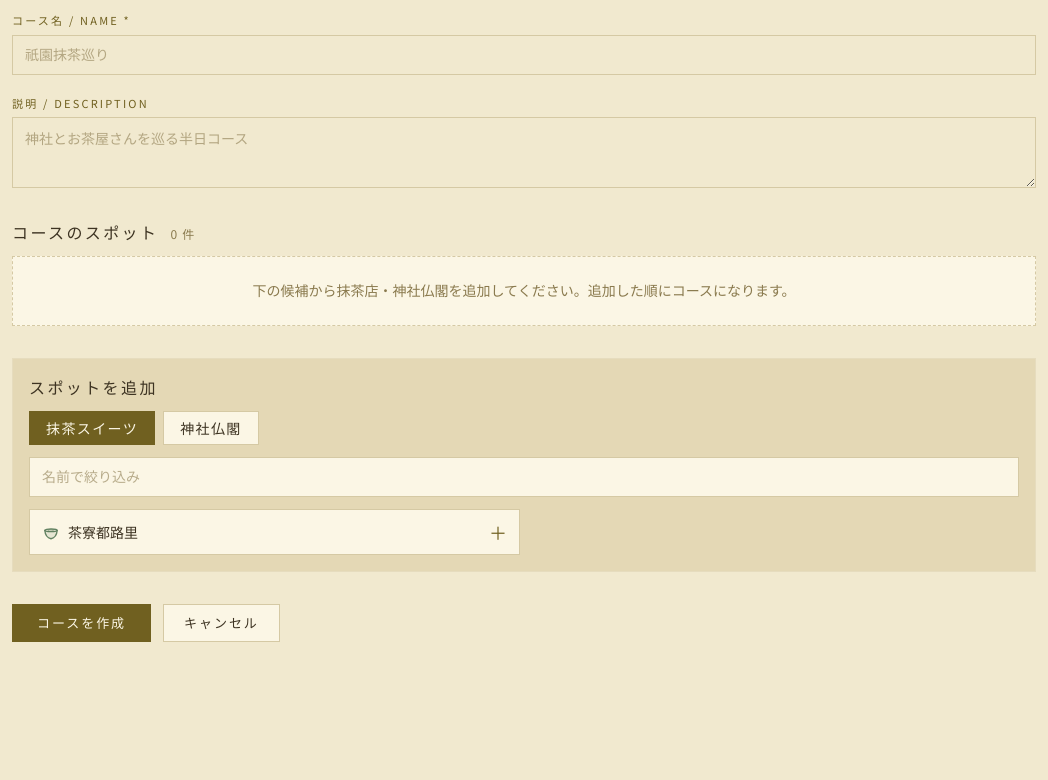
Scenario: RouteBuilder（作成） › 422 ではサーバのメッセージを表示する
This screenshot has width=1048, height=780.
Type "テストコース" into the field labelled "コース名 / NAME *" at (524, 54), box left=12, top=34, right=1036, bottom=74
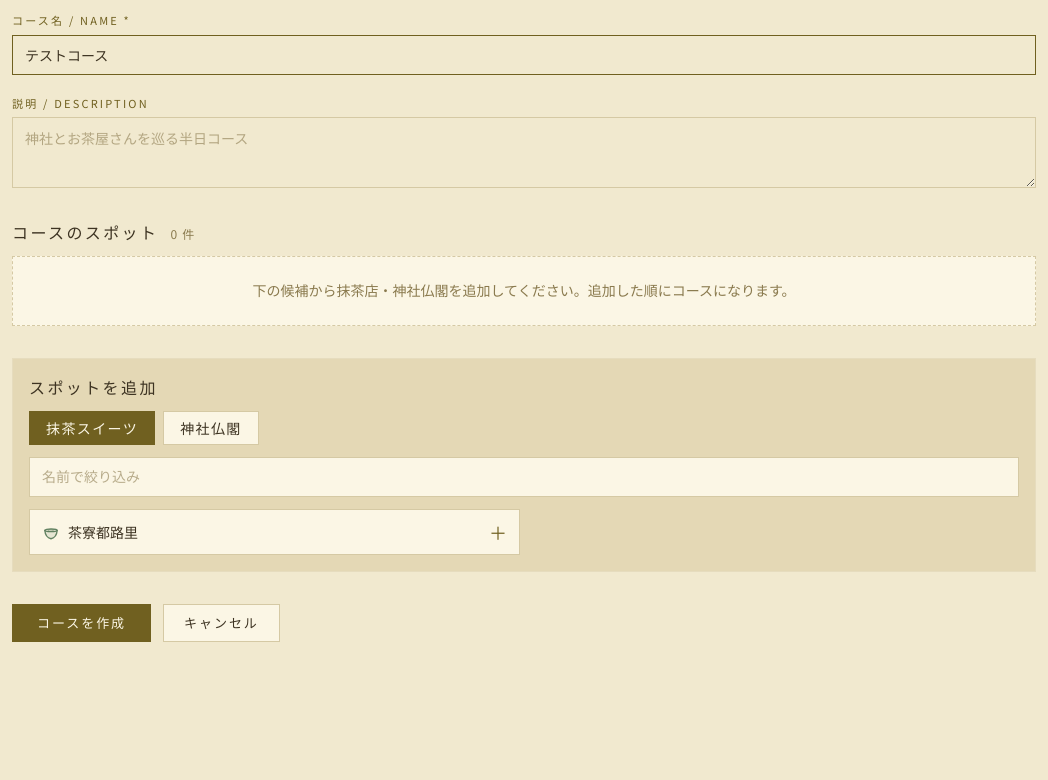
Click the button "茶寮都路里 ＋" at (103, 532), box left=29, top=509, right=520, bottom=555
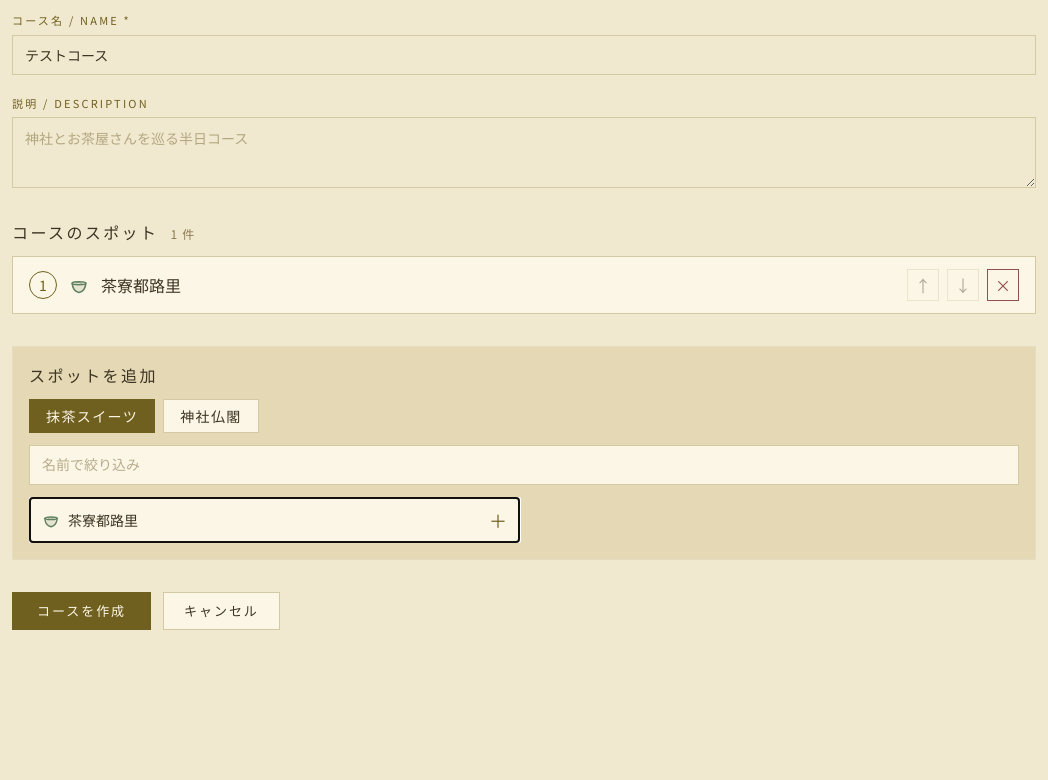
Click the button "コースを作成" at (82, 611), box left=12, top=592, right=151, bottom=630
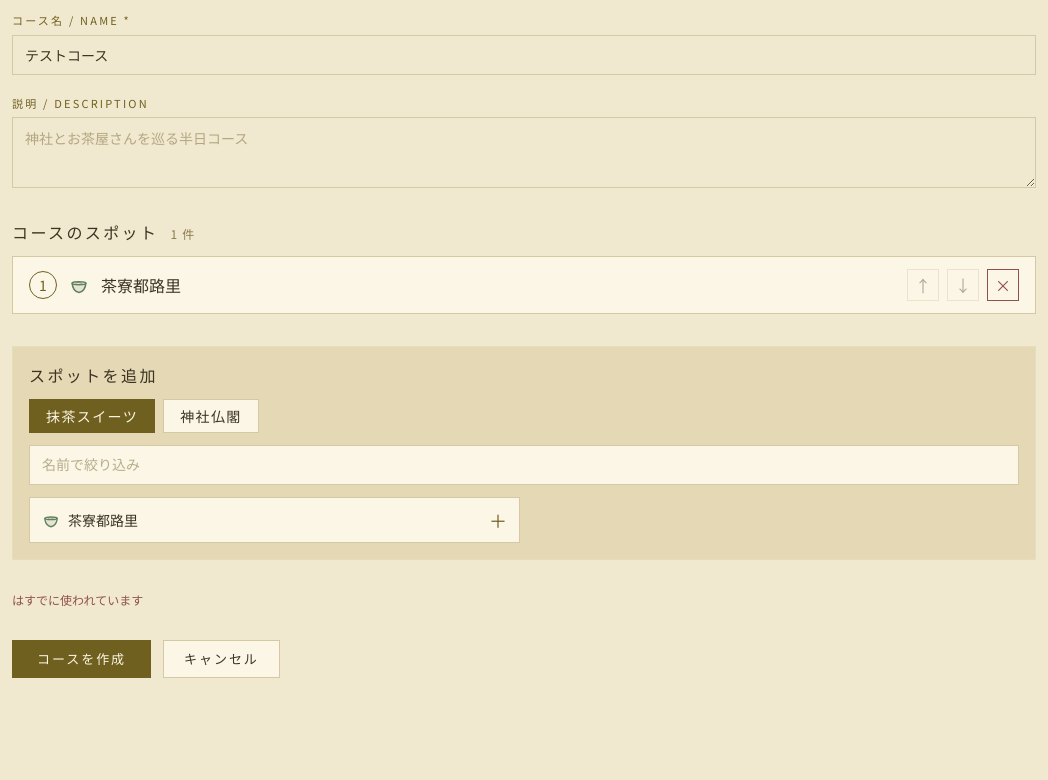
Expected: the button "コースを作成" is enabled, left=12, top=640, right=151, bottom=678
Now the text "はすでに使われています" is shown, box left=12, top=591, right=143, bottom=608
